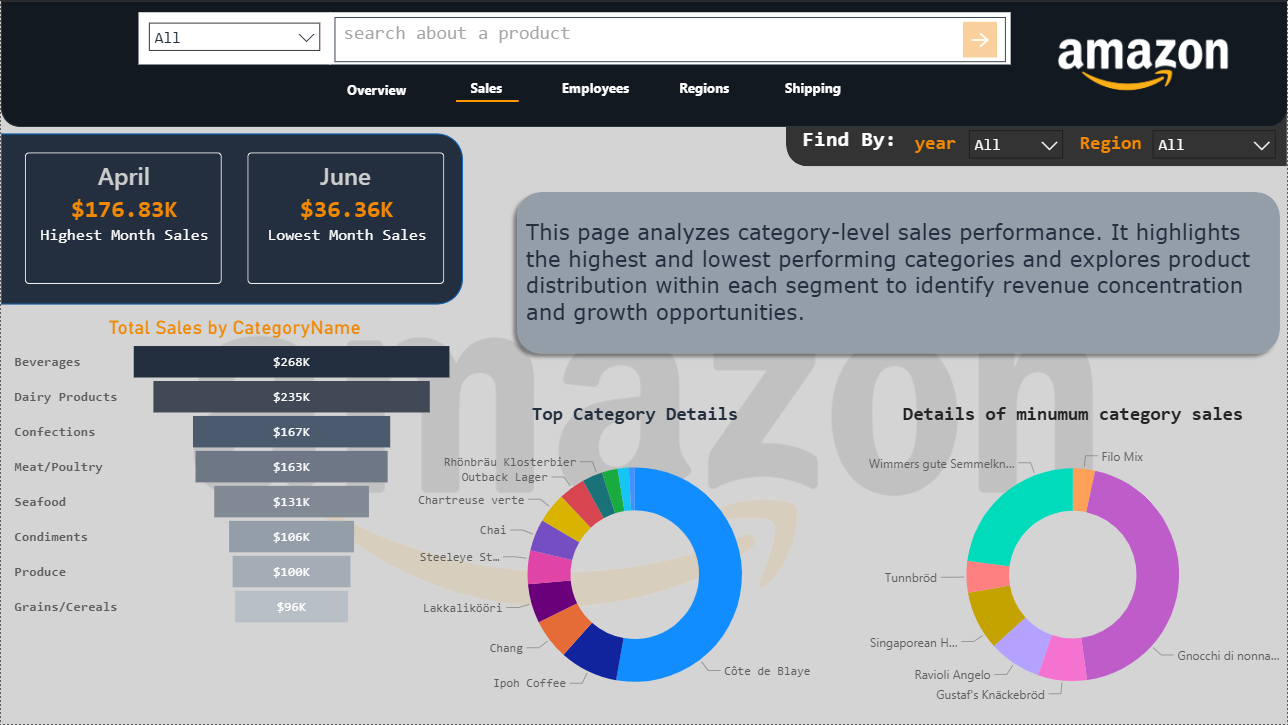

The page's visual inventory and layout, read from the dashboard file:
{"tool":"powerbi","page":{"name":"Sales","canvas":[1280,720],"ordinal":1},"visuals":[{"type":"shape","box":[780.6,79.1,498.5,85.1],"z":0},{"type":"image","box":[0,126.2,1280,593.8],"z":500},{"type":"shape","box":[0,0,1280.6,125.4],"z":1000},{"type":"shape","box":[452.2,73.1,62.7,52.2],"z":2000},{"type":"image","box":[1046.3,13.4,180.6,98.5],"z":3000},{"type":"textSlicer","fields":{"Values":["Products.ProductName"]},"box":[327.8,11.6,677.6,52.2],"z":4000},{"type":"slicer","fields":{"Values":["Categories.CategoryName"]},"box":[136.7,11.6,191,52.2],"z":5000},{"type":"actionButton","title":"Sales","box":[428.9,65.6,107.8,40],"z":6000},{"type":"actionButton","title":"Sales","box":[320,65.7,108.6,40],"z":7000},{"type":"actionButton","title":"Sales","box":[537.1,65.7,108.6,40],"z":8000},{"type":"actionButton","title":"Sales","box":[645.7,65.7,108.6,40],"z":9000},{"type":"actionButton","title":"Sales","box":[754.3,65.7,108.6,40],"z":10000},{"type":"textbox","box":[792.5,119.4,117.9,44.8],"z":11000},{"type":"slicer","fields":{"Values":["Orders.OrderDate.Variation.Date Hierarchy.Year"]},"box":[953.1,118,114.3,48.6],"z":12000},{"type":"textbox","box":[904.6,125.1,67.1,38.6],"z":13000},{"type":"shape","box":[0,131.3,459.7,170.1],"z":14000},{"type":"slicer","fields":{"Values":["Region.RegionDescription"]},"box":[1136,118,142.9,48.6],"z":15000},{"type":"textbox","box":[1068.9,125.1,81.4,38.6],"z":16000},{"type":"cardVisual","fields":{"Data":["Categories.Highest Month Sales"]},"box":[14.9,141.8,214.9,149.3],"z":17000},{"type":"funnel","fields":{"Category":["Categories.CategoryName"],"Y":["Order Details.Total Sales"]},"box":[9,313.4,447.8,313.4],"z":18000},{"type":"donutChart","title":"Details of minumum category  sales","fields":{"Y":["Order Details.Total Sales"],"Series":["Products.ProductName"]},"box":[853.7,400,426.9,319.4],"z":19000},{"type":"donutChart","title":"Top Category Details","fields":{"Category":["Products.ProductName"],"Y":["Order Details.Total Sales"]},"box":[409,400,443.3,319.4],"z":20000},{"type":"shape","box":[504.5,182.1,776.1,177.6],"z":21000},{"type":"cardVisual","fields":{"Data":["Categories.Lowest Month Sales"]},"box":[235.8,141.8,214.9,149.3],"z":22000},{"type":"textbox","box":[517.1,211.4,762.9,120],"z":23000},{"type":"cardVisual","fields":{"Rows":["Orders.OrderDate.Variation.Date Hierarchy.Month"]},"box":[40,133.3,165.6,126.7],"z":24000},{"type":"cardVisual","fields":{"Rows":["Orders.OrderDate.Variation.Date Hierarchy.Month"]},"box":[270,133.3,146.7,126.7],"z":25000}]}

Visuals, with their boxes in screenshot pixels (x1, y1, x2, y2), scaled from the page's 1280x720 canvas onto the 1288x725 screenshot:
shape: <region>785, 80, 1287, 165</region>
image: <region>0, 127, 1287, 724</region>
shape: <region>0, 0, 1287, 126</region>
shape: <region>455, 74, 518, 126</region>
image: <region>1053, 13, 1235, 113</region>
textSlicer - Products.ProductName: <region>330, 12, 1012, 64</region>
slicer - Categories.CategoryName: <region>138, 12, 330, 64</region>
"Sales" actionButton: <region>432, 66, 540, 106</region>
"Sales" actionButton: <region>322, 66, 431, 106</region>
"Sales" actionButton: <region>540, 66, 650, 106</region>
"Sales" actionButton: <region>650, 66, 759, 106</region>
"Sales" actionButton: <region>759, 66, 868, 106</region>
textbox: <region>797, 120, 916, 165</region>
slicer - Orders.OrderDate.Variation.Date Hierarchy.Year: <region>959, 119, 1074, 168</region>
textbox: <region>910, 126, 978, 165</region>
shape: <region>0, 132, 463, 303</region>
slicer - Region.RegionDescription: <region>1143, 119, 1287, 168</region>
textbox: <region>1076, 126, 1157, 165</region>
cardVisual - Categories.Highest Month Sales: <region>15, 143, 231, 293</region>
funnel - Categories.CategoryName x Order Details.Total Sales: <region>9, 316, 460, 631</region>
"Details of minumum category  sales" donutChart: <region>859, 403, 1287, 724</region>
"Top Category Details" donutChart: <region>412, 403, 858, 724</region>
shape: <region>508, 183, 1287, 362</region>
cardVisual - Categories.Lowest Month Sales: <region>237, 143, 454, 293</region>
textbox: <region>520, 213, 1287, 334</region>
cardVisual - Orders.OrderDate.Variation.Date Hierarchy.Month: <region>40, 134, 207, 262</region>
cardVisual - Orders.OrderDate.Variation.Date Hierarchy.Month: <region>272, 134, 419, 262</region>
